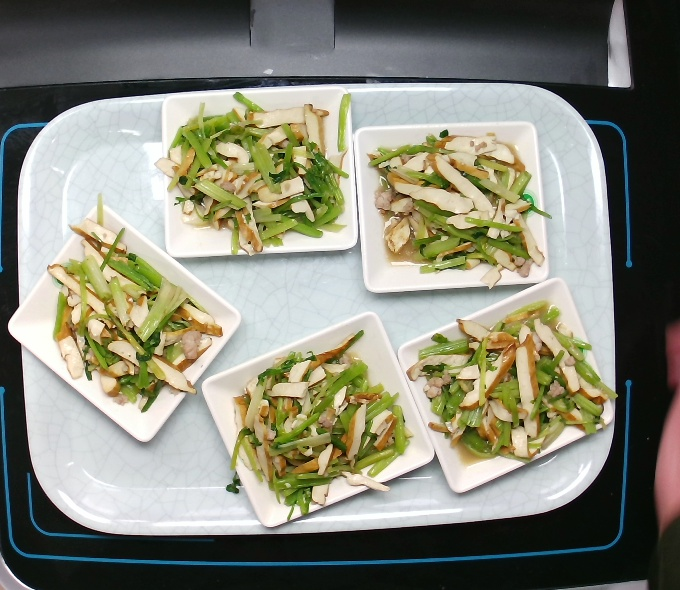wcq-XiangGanQinCai: (41, 189, 225, 417), (223, 323, 417, 526), (403, 295, 623, 469), (153, 88, 356, 260), (361, 125, 553, 292)
